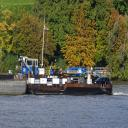tugboat: (14, 55, 116, 99)
